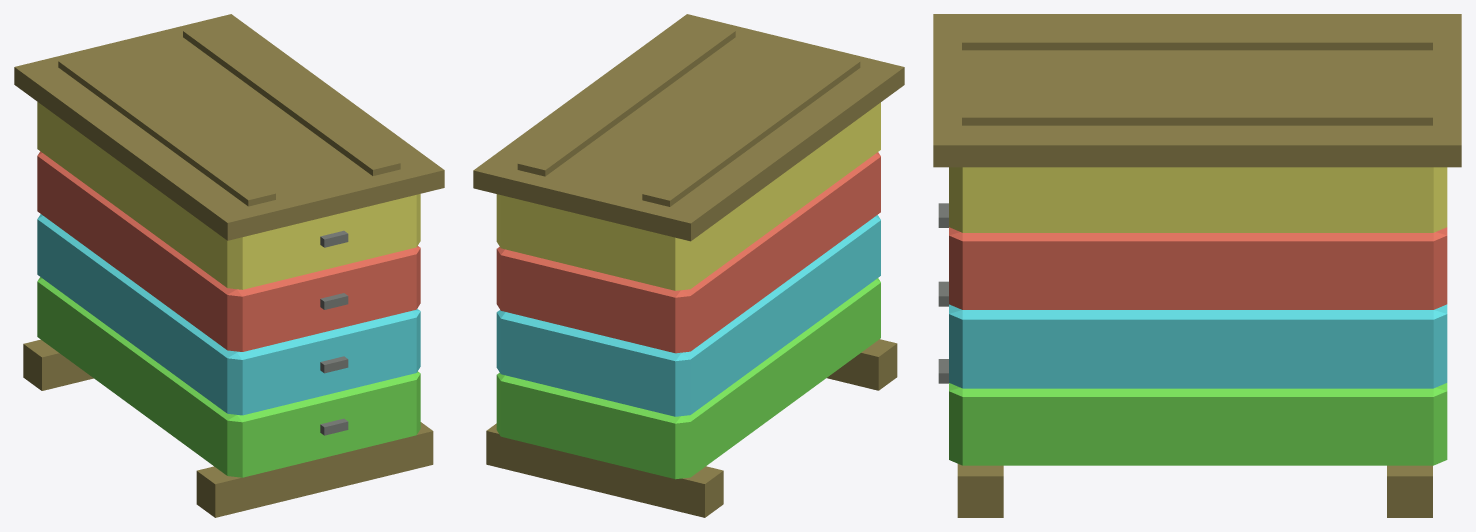
Rendered from beehive02.fbx.
3 views of the same model, side by side, from view 1: azimuth 30°, elevation 25°; view 2: azimuth 150°, elevation 25°; view 3: azimuth 270°, elevation 25° (orthographic). The views are drawn at different scales.
Visible parts, largest first — view 1: Cube.005; view 2: Cube.005; view 3: Cube.005.
Boxes of the visible parts, x1=… form: Cube.005: x1=14, y1=14, x2=444, y2=517; Cube.005: x1=473, y1=14, x2=904, y2=517; Cube.005: x1=933, y1=14, x2=1461, y2=517.
Bounding box in the file's own units: 0.7668 × 1.03 × 1.29.
